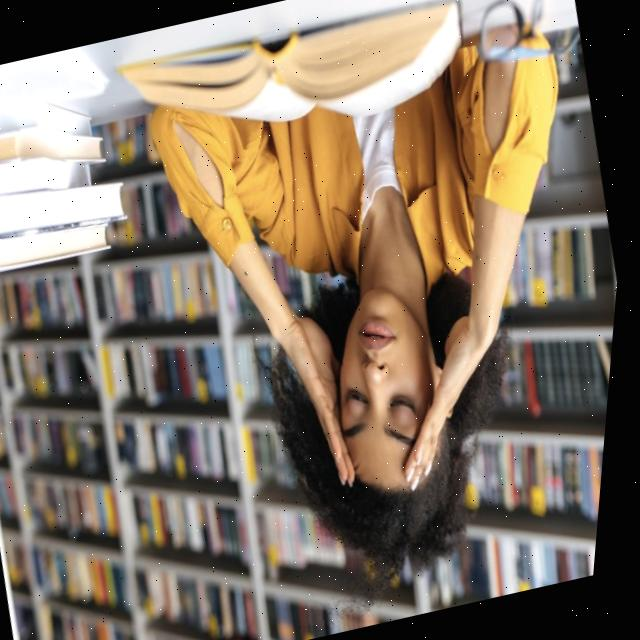studying-person: (76, 0, 640, 640)
